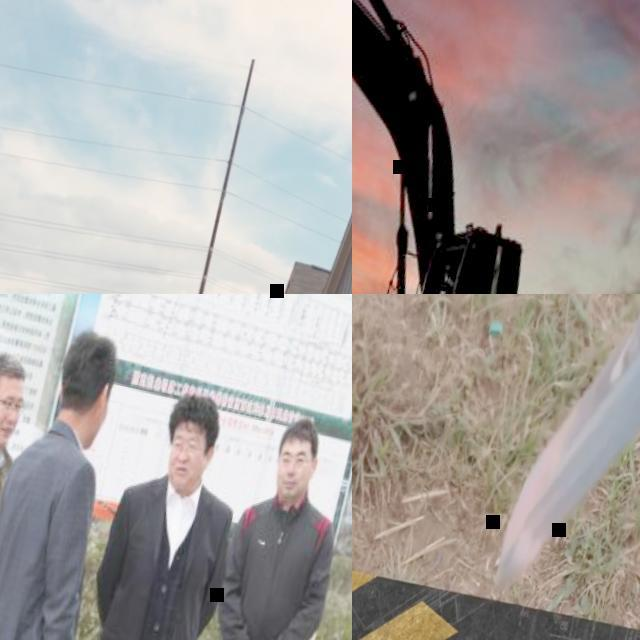machinery: (352, 0, 640, 294)
no_helmet: (58, 327, 120, 387), (170, 389, 226, 436), (282, 415, 326, 452), (0, 350, 30, 398)
no_mask: (165, 457, 203, 493), (272, 470, 310, 506), (82, 408, 110, 450), (0, 416, 14, 447)
no_vest: (86, 478, 230, 640), (0, 429, 96, 640), (214, 497, 329, 640)
person: (34, 378, 261, 640), (155, 408, 352, 640), (0, 319, 137, 640)
